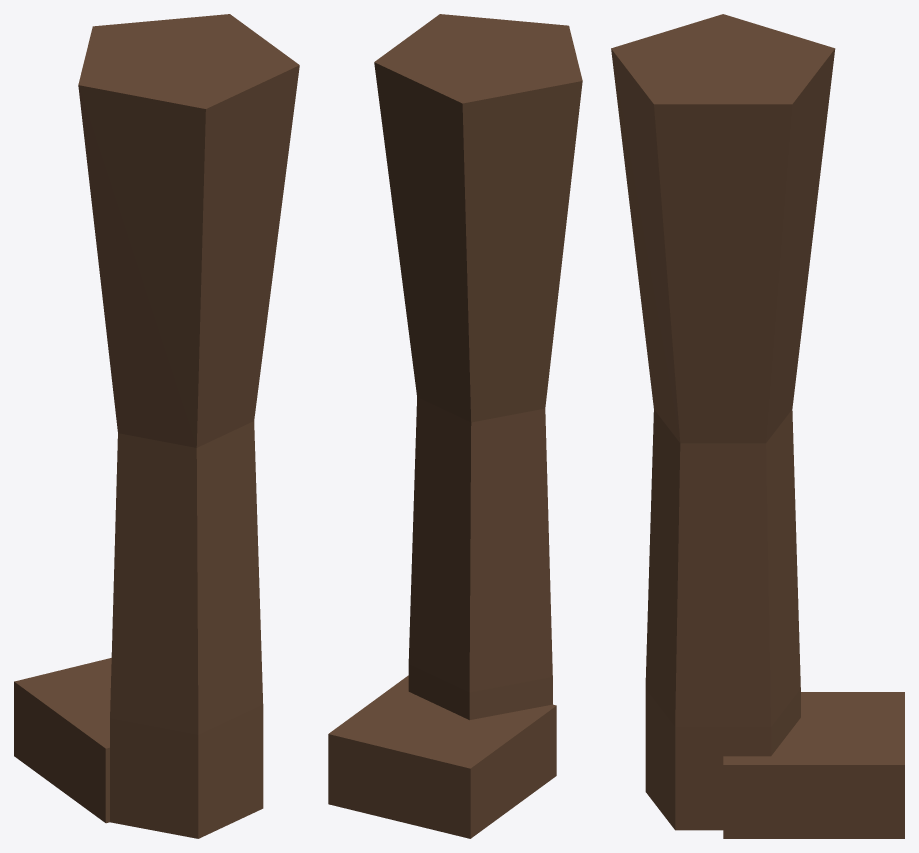
File: animal_monkey_leg.obj
3 renders of one model, left to right at view 1: azimuth 30°, elevation 25°; view 2: azimuth 150°, elevation 25°; view 3: azimuth 270°, elevation 25°, orthographic. The views are drawn at different scales.
Parts seen in each view (by area): view 1: animal_monkey_leg; view 2: animal_monkey_leg; view 3: animal_monkey_leg.
Part boxes in pixels (left/top/right/bottom): animal_monkey_leg: left=14, top=14, right=299, bottom=838; animal_monkey_leg: left=328, top=14, right=582, bottom=838; animal_monkey_leg: left=611, top=14, right=904, bottom=838.
Bounding box in the file's own units: 0.0583 × 0.2224 × 0.0802.
